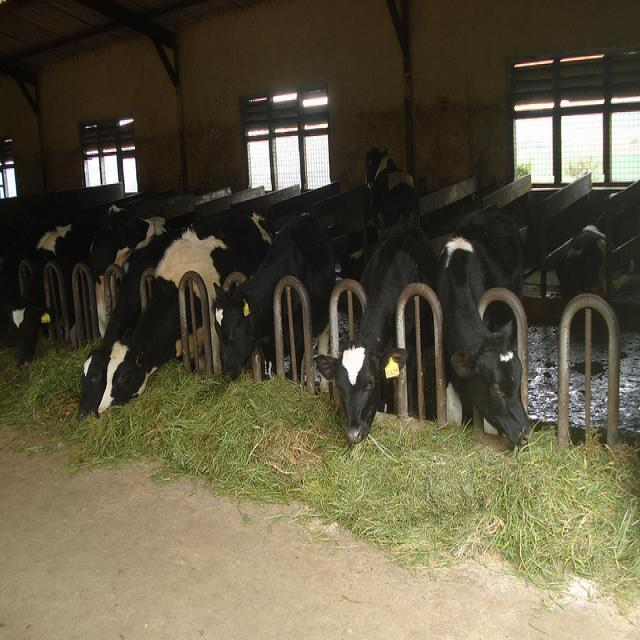cow: (97, 207, 268, 415), (312, 216, 439, 445), (436, 200, 532, 447), (0, 203, 141, 368), (74, 216, 190, 413), (218, 212, 341, 385), (77, 211, 191, 337), (554, 199, 639, 296), (364, 147, 421, 229)
